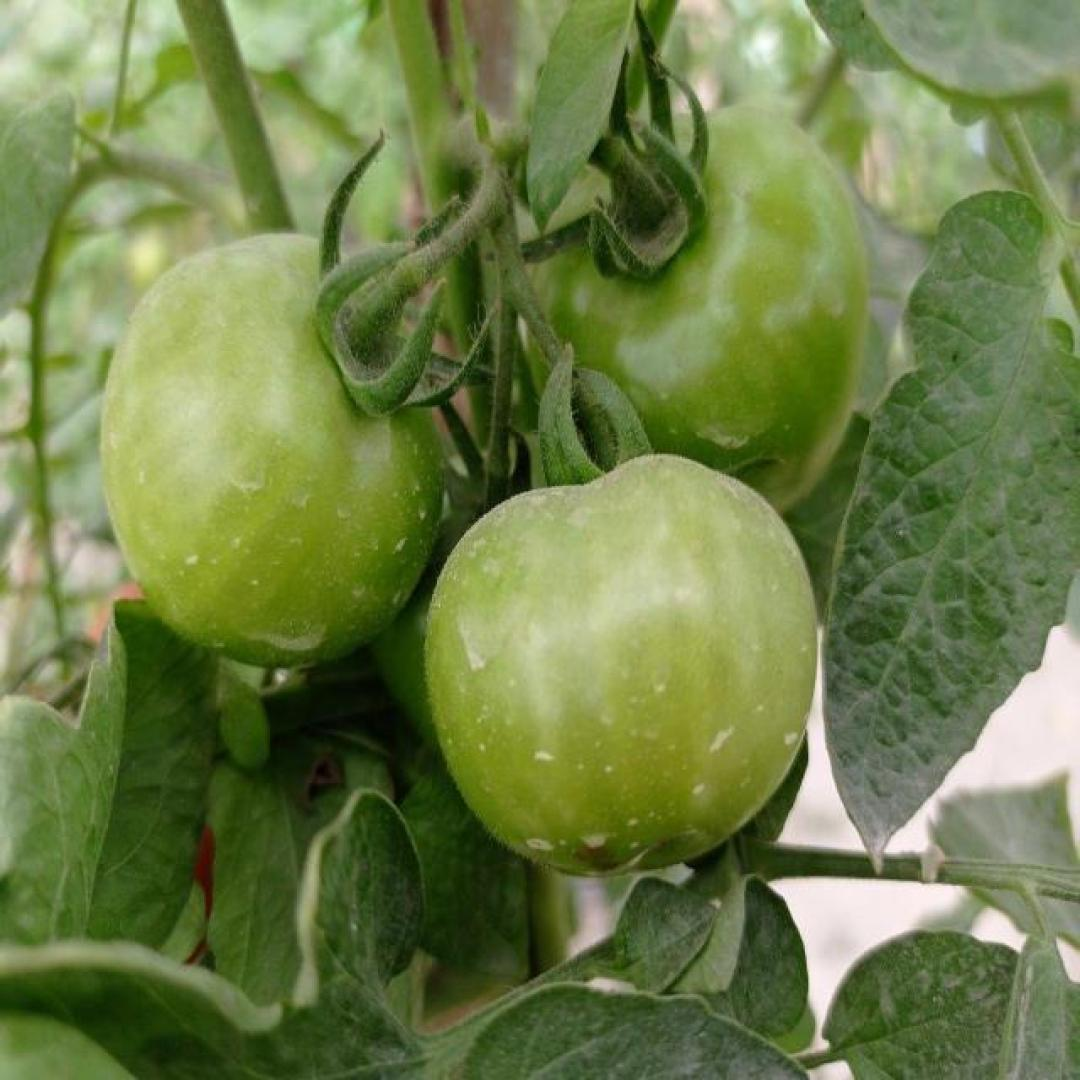mentah: (422, 445, 817, 881), (98, 233, 447, 670), (525, 108, 859, 521)
